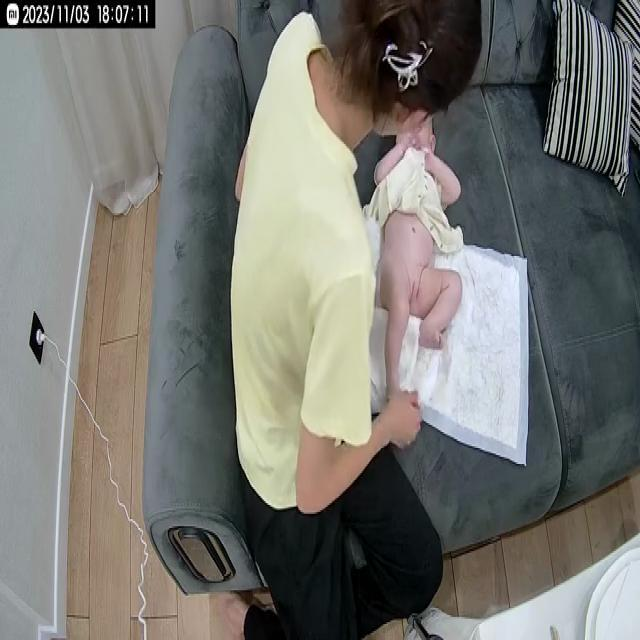baby: (372, 100, 466, 423)
